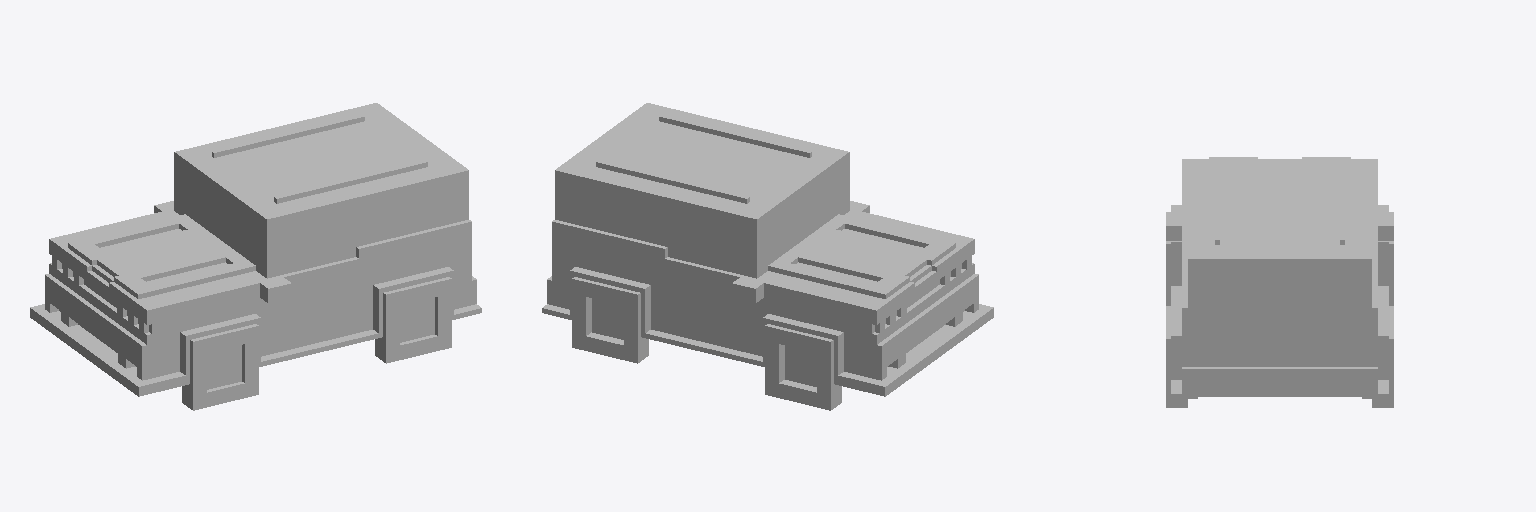
File: alll cars3-16.obj
3 views of the same model, side by side, from view 1: azimuth 30°, elevation 25°; view 2: azimuth 150°, elevation 25°; view 3: azimuth 270°, elevation 25° (orthographic).
Parts seen in each view (by area): view 1: object 1; view 2: object 1; view 3: object 1.
Part boxes in pixels (x1,y1,x2,y2): object 1: (30,103,481,410); object 1: (542,103,993,410); object 1: (1166,157,1393,407).
Bounding box in the file's own units: 7.3 × 3.4 × 4.2.